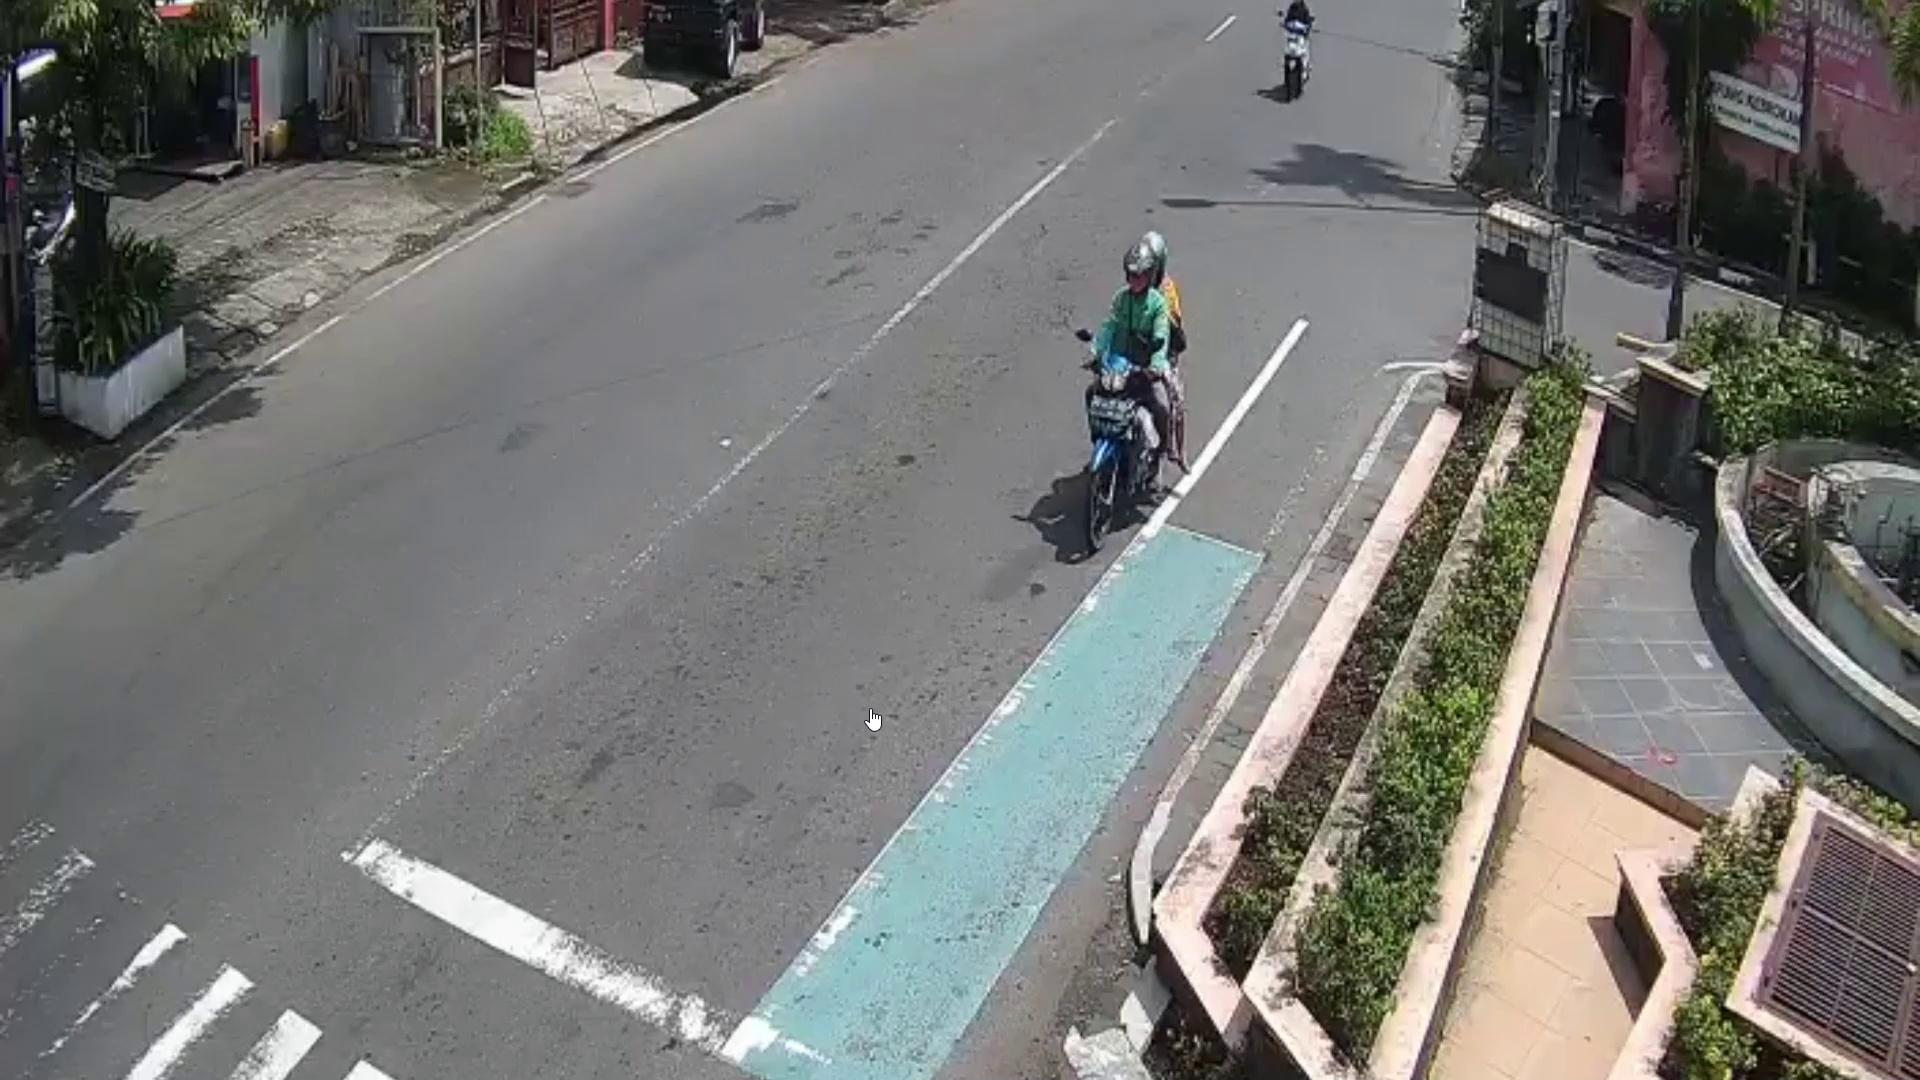motorbike: (1083, 355, 1167, 547), (1282, 17, 1311, 102)
